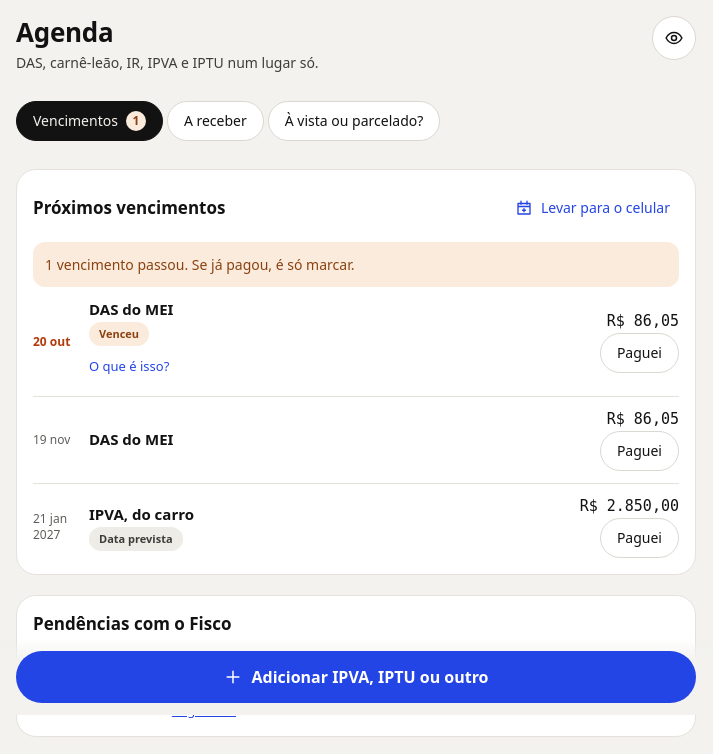
Agenda › calculadora à vista ou parcelado
Click the tab "À vista ou parcelado?" at (354, 121), box [268,101,440,141]
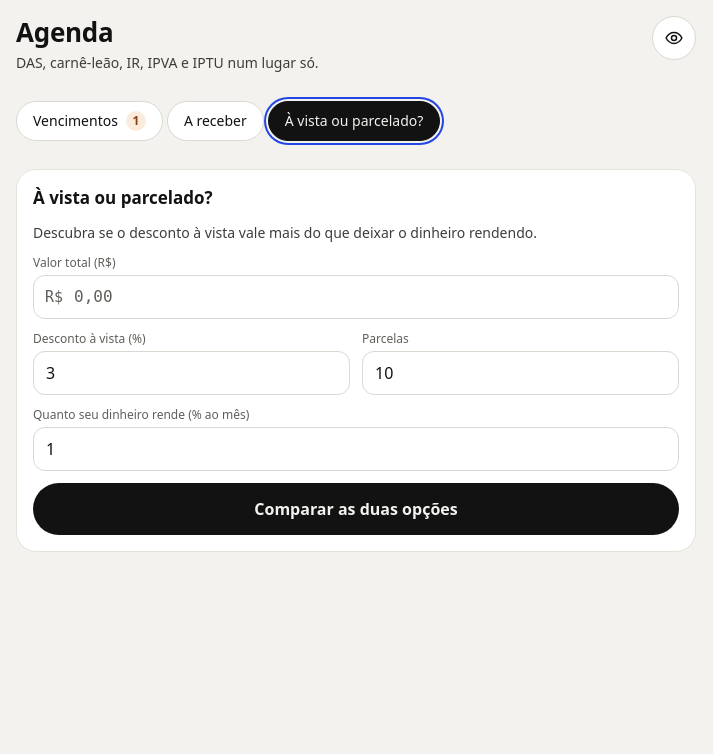
Type "3000" into the field labelled "Valor total (R$)" at (356, 297), box [33,275,679,319]
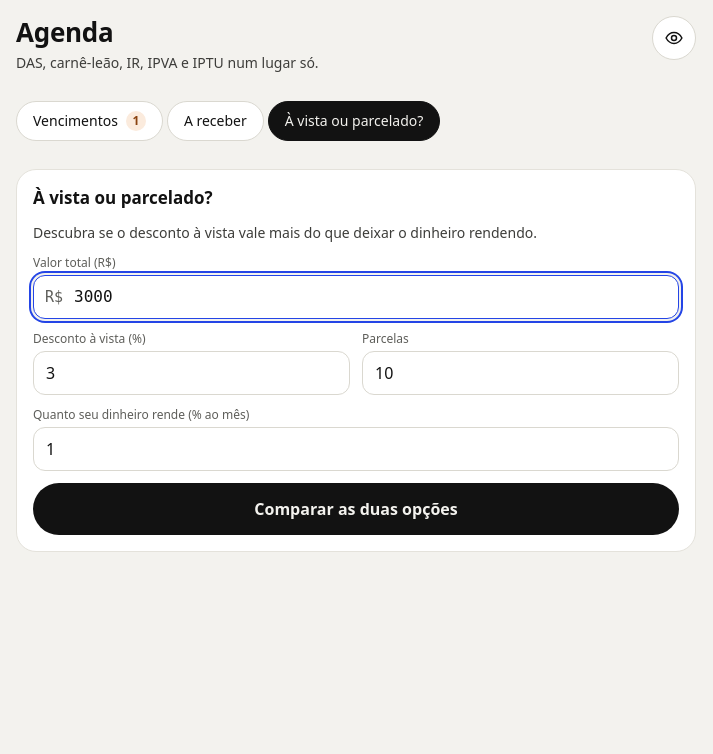
Click the button "Comparar as duas opções" at (356, 509), box [33,483,679,535]
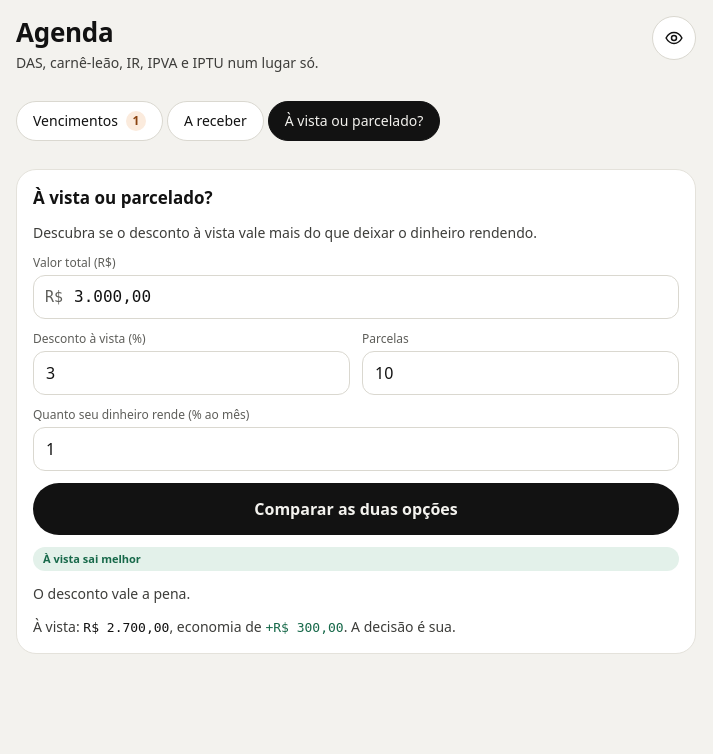
expect the text "À vista sai melhor" is shown: met, box [33,547,679,571]
expect the text "A decisão é sua" is shown: met, box [344,617,456,636]
